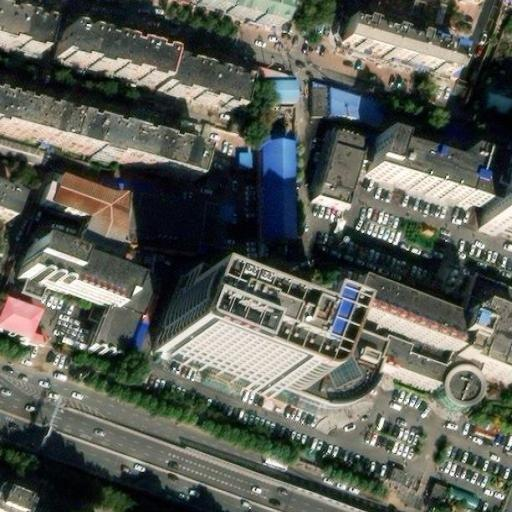building: (144, 276, 314, 388), (335, 284, 512, 377), (53, 111, 191, 177), (366, 134, 498, 199), (335, 16, 459, 74), (286, 316, 368, 403), (168, 259, 285, 318), (16, 242, 121, 305), (51, 24, 160, 84), (116, 190, 211, 249), (43, 177, 119, 238), (151, 53, 235, 106), (372, 335, 446, 390), (252, 153, 290, 254), (309, 134, 360, 209), (89, 314, 134, 372), (0, 296, 48, 346), (324, 89, 381, 128), (479, 171, 512, 226), (107, 278, 140, 321), (266, 275, 307, 307), (246, 80, 293, 103), (327, 126, 373, 146), (479, 92, 509, 115), (246, 66, 281, 81), (493, 152, 512, 176), (34, 184, 51, 208)
